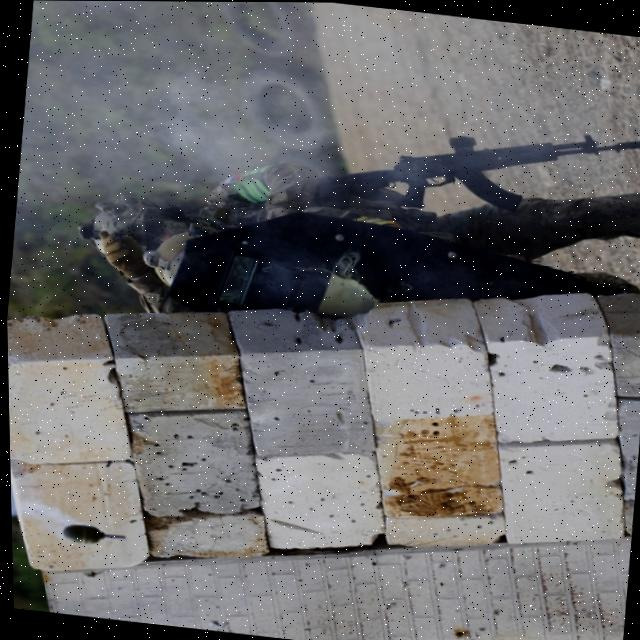firearm: (324, 101, 640, 230)
